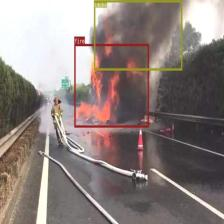fire: (74, 44, 149, 127)
smoke: (94, 0, 182, 70)
